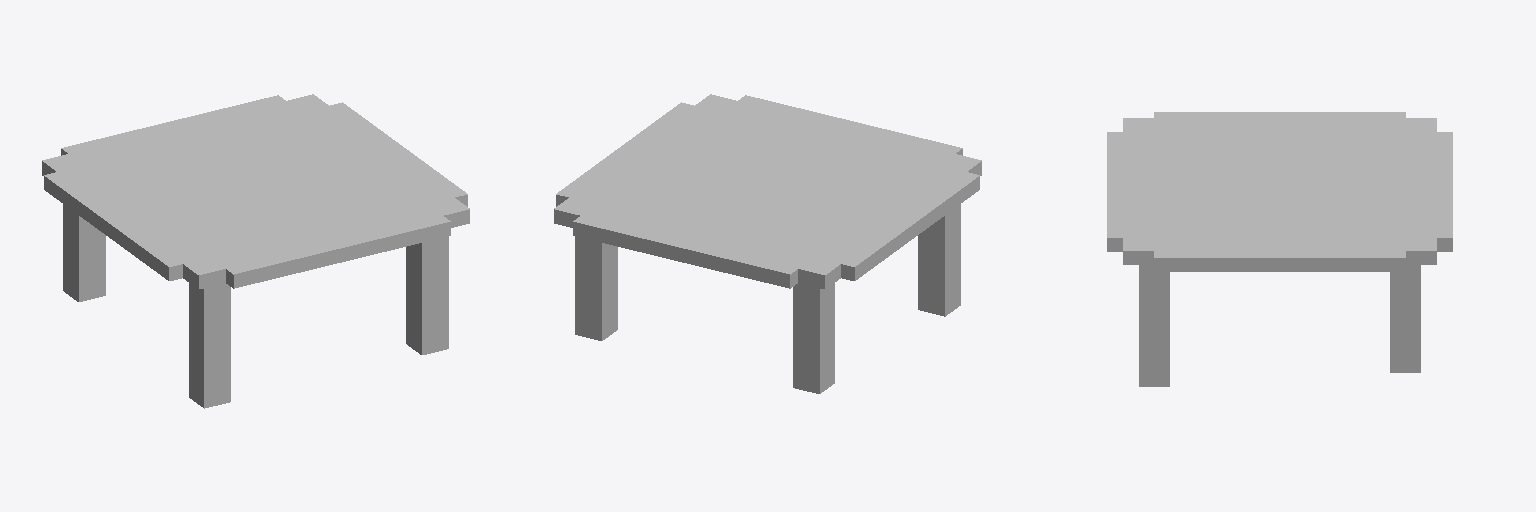
Rendered from Table.obj.
3 renders of one model, left to right at view 1: azimuth 30°, elevation 25°; view 2: azimuth 150°, elevation 25°; view 3: azimuth 270°, elevation 25°, orthographic.
Visible parts, largest first — view 1: object 1; view 2: object 1; view 3: object 1.
Boxes of the visible parts, box(x1,y1,x2,y2) form: object 1: box(42, 94, 469, 408); object 1: box(554, 94, 981, 393); object 1: box(1107, 112, 1452, 386).
Bounding box in the file's own units: 2.2 × 1 × 2.2.